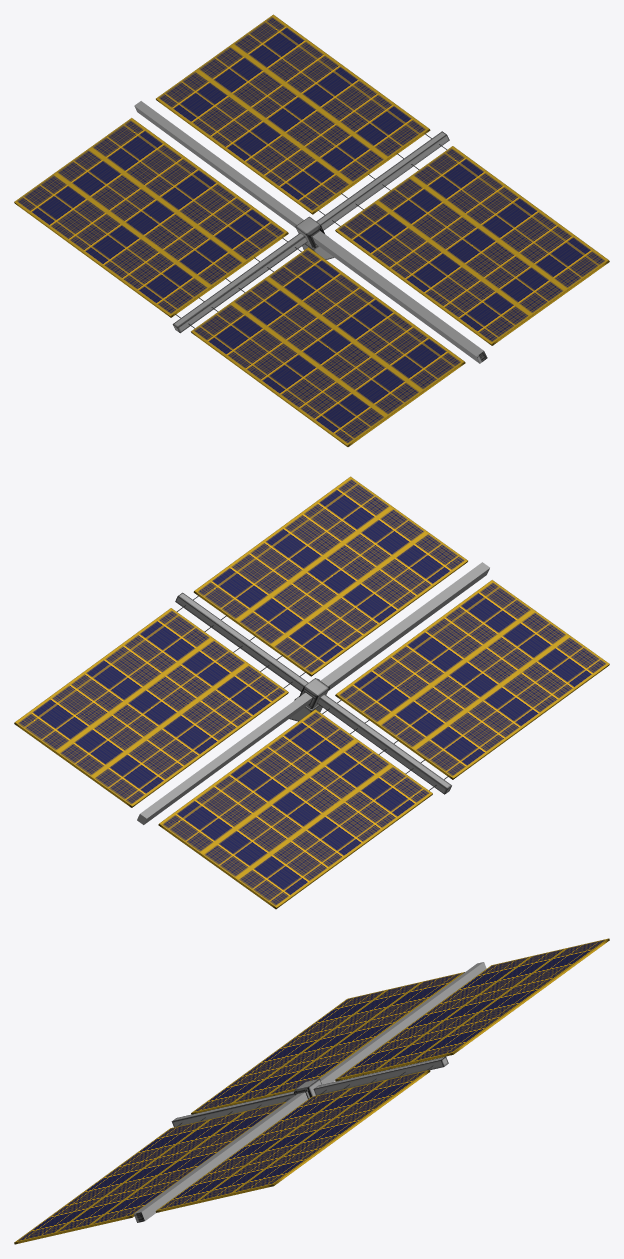
The model's file is Model_SolarPanels.fbx.
The picture shows the model from 3 angles, top to bottom: view 1: azimuth 30°, elevation 25°; view 2: azimuth 150°, elevation 25°; view 3: azimuth 330°, elevation 25°; orthographic projection.
Parts seen in each view (by area): view 1: pasted__polySurface8; view 2: pasted__polySurface8; view 3: pasted__polySurface8.
Part boxes in pixels (x1=…): pasted__polySurface8: x1=14, y1=14, x2=609, y2=446; pasted__polySurface8: x1=14, y1=476, x2=609, y2=909; pasted__polySurface8: x1=14, y1=938, x2=609, y2=1244.
Bounding box in the file's own units: 14.47 × 6.78 × 31.55.
